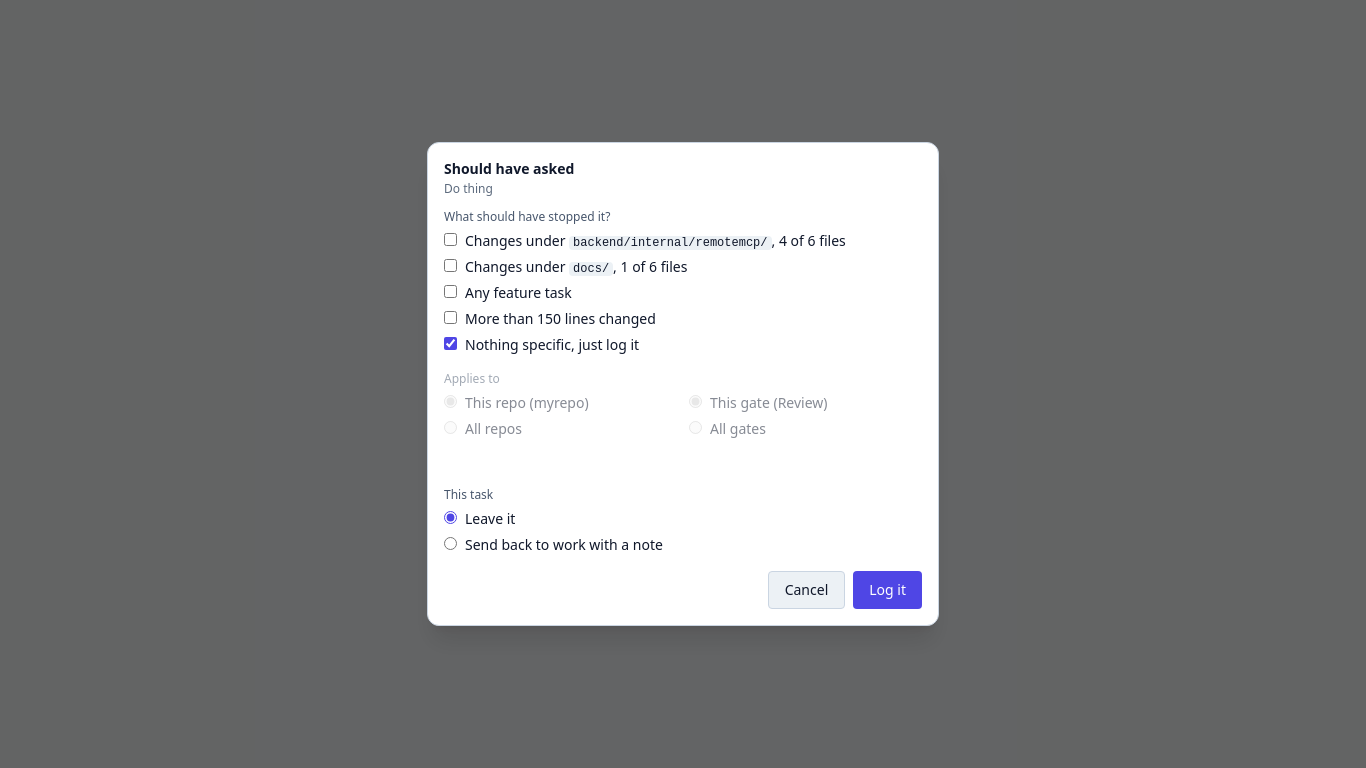
Test: ShouldHaveAskedDialog › runs one debounced backtest excluding this task
Click the checkbox labelled "Any feature task": {"x": 450, "y": 292} [444, 285, 457, 298]
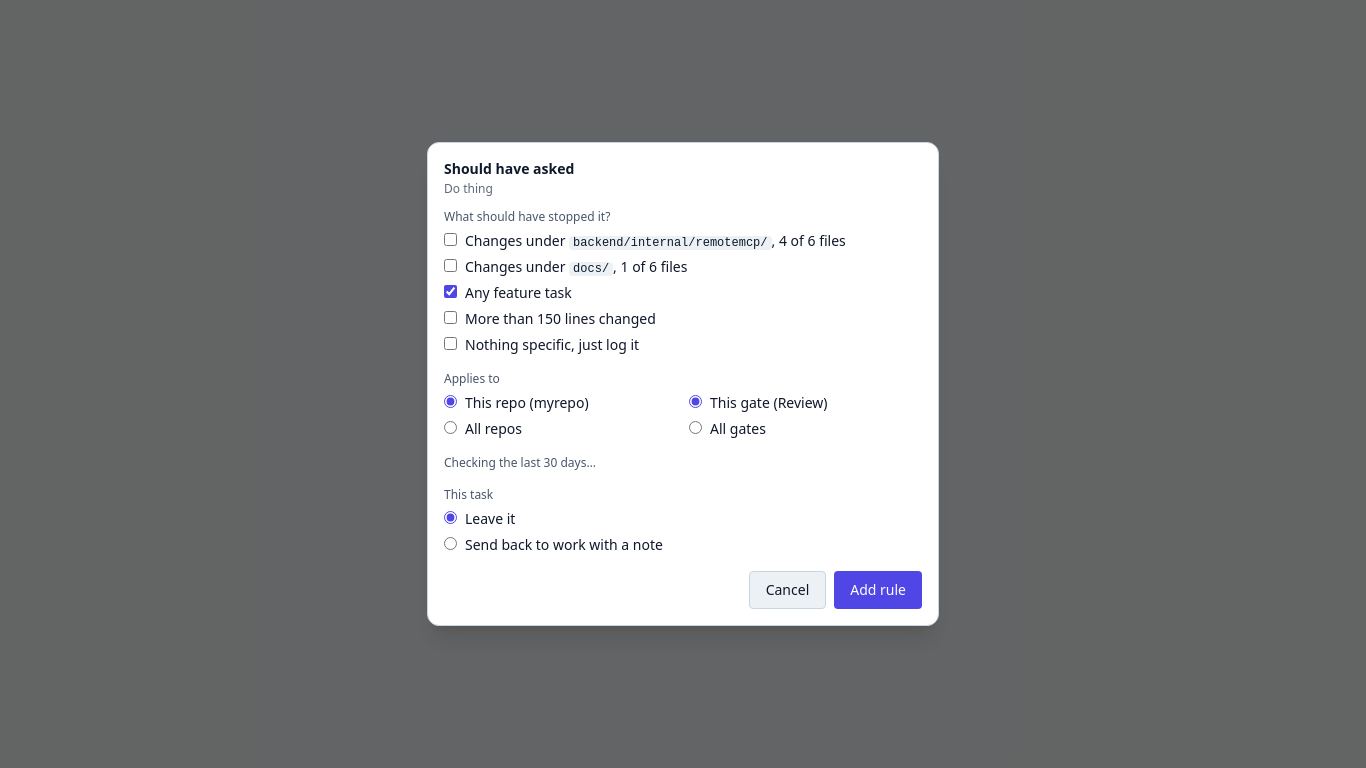
Click the checkbox labelled "More than 150 lines changed": {"x": 450, "y": 318} [444, 311, 457, 324]
Wait 450 ms
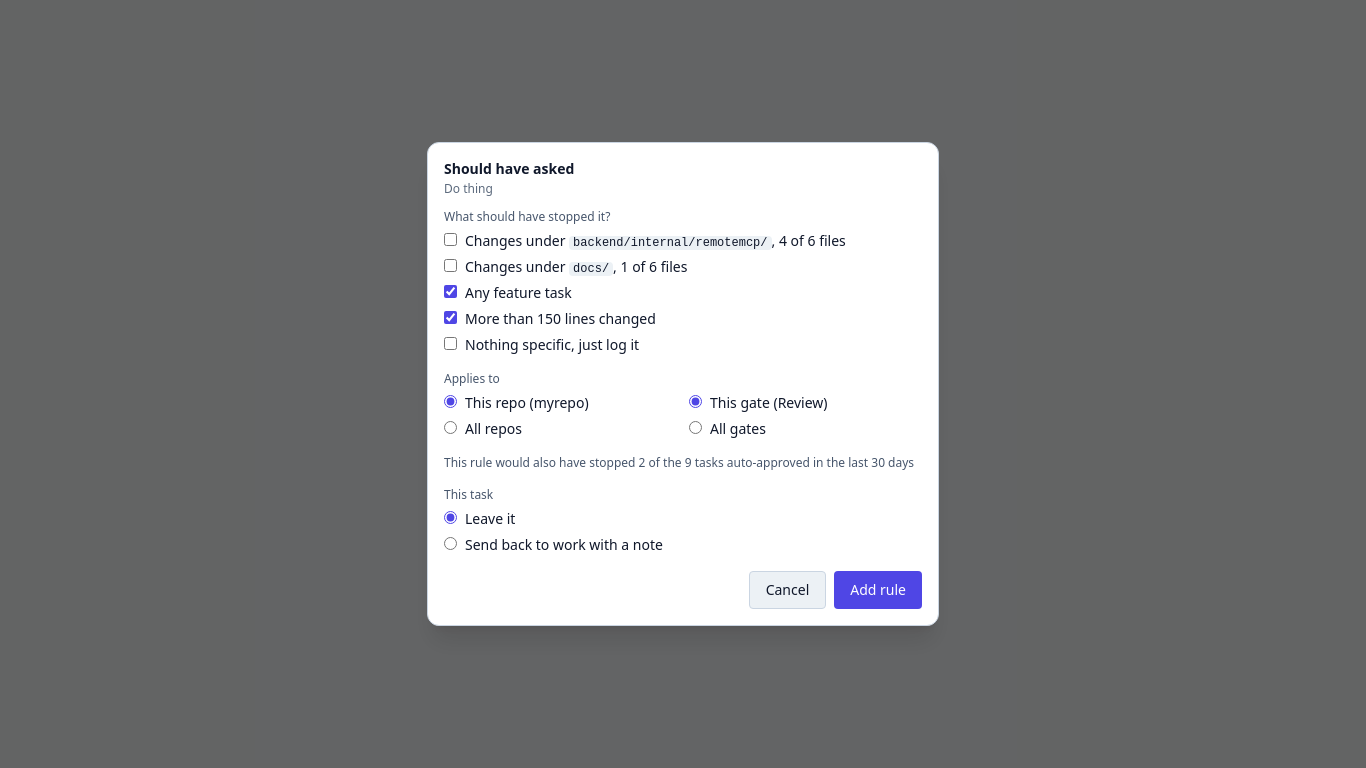
Expected: the text "Checking the last 30 days…" is shown, [444, 455, 922, 471]
Now the text with test id "sha-backtest" shows "This rule would also have stopped 2 of the 9 tasks auto-approved in the last 30 days", box [444, 454, 914, 471]
